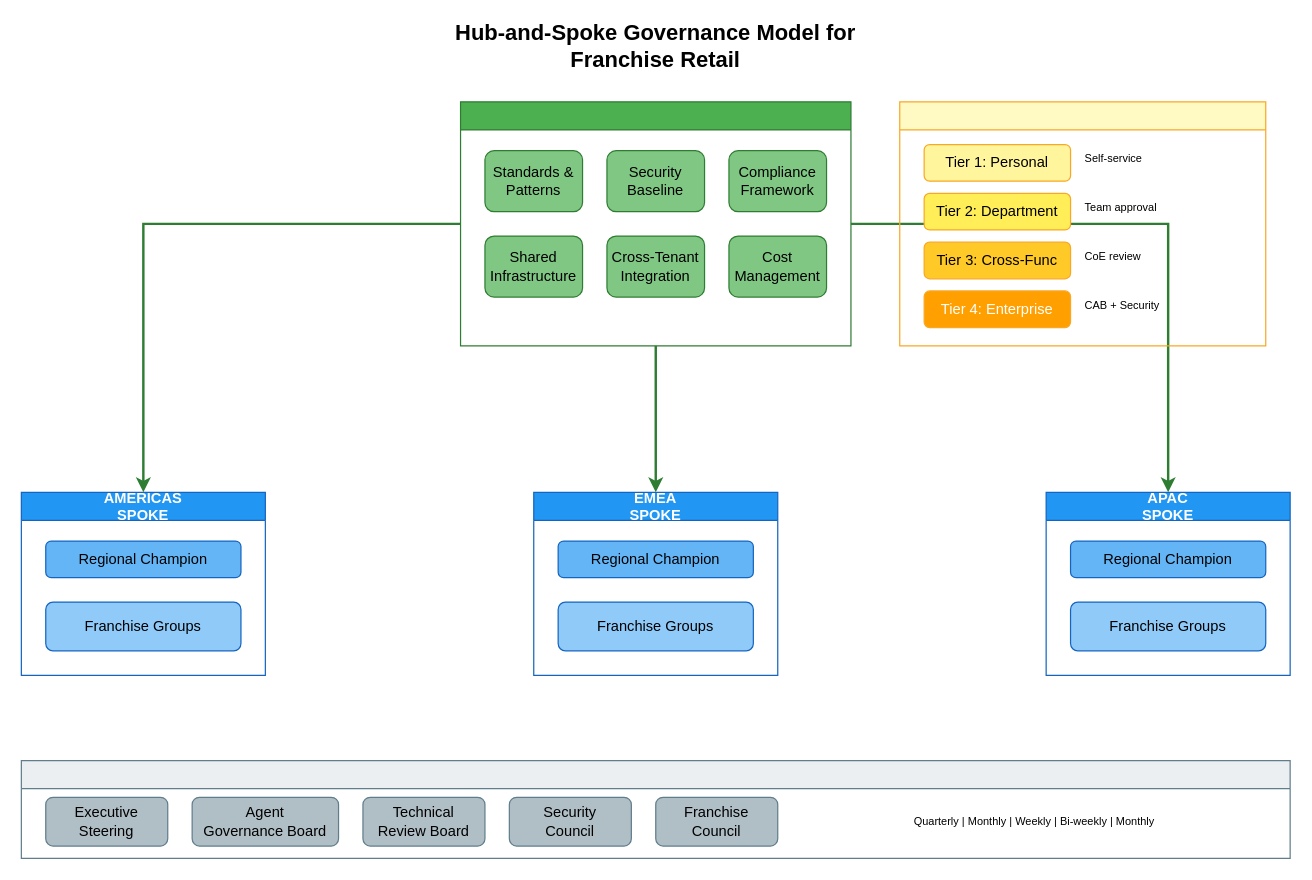
The diagram is 1312 pixels wide and 880 high, and some of its shapes have lost their labels. Each missing label, with the box of its shape:
Agent Tier Governance: (899, 101, 1266, 346)
CORPORATE HUB (CoE): (459, 101, 851, 346)
Governance Bodies: (20, 759, 1290, 858)
